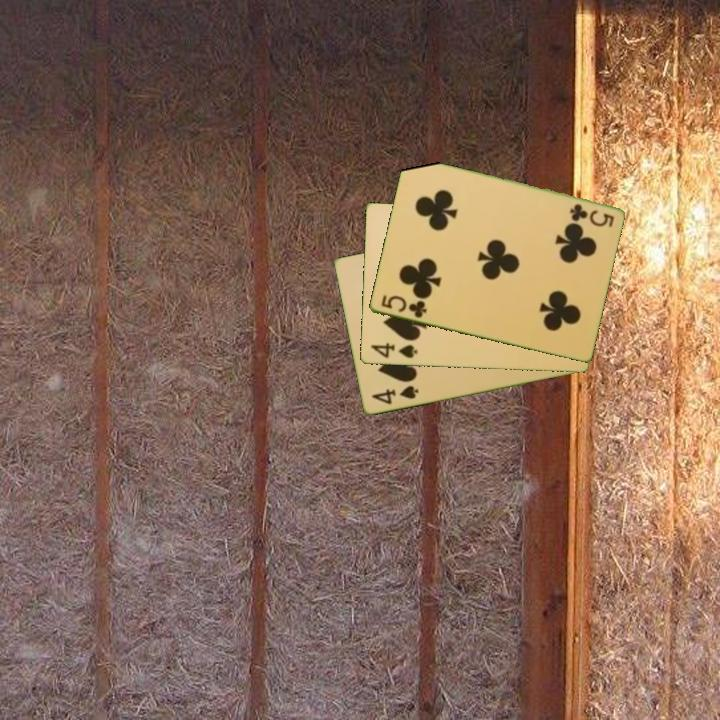4s: (368, 382, 421, 408), (366, 340, 420, 362)
5c: (566, 200, 617, 230), (377, 292, 429, 321)
